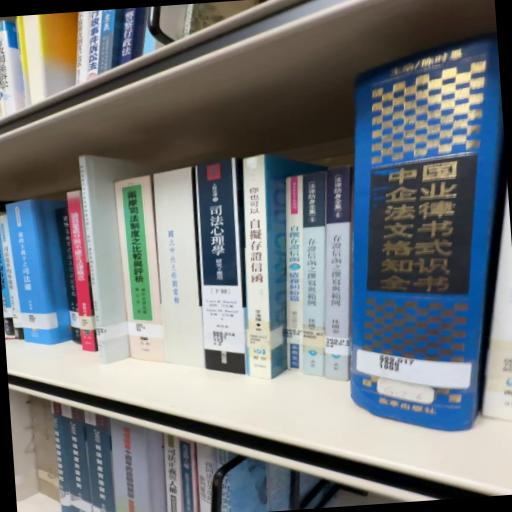backward: (148, 166, 207, 373)
book: (193, 160, 254, 381)
